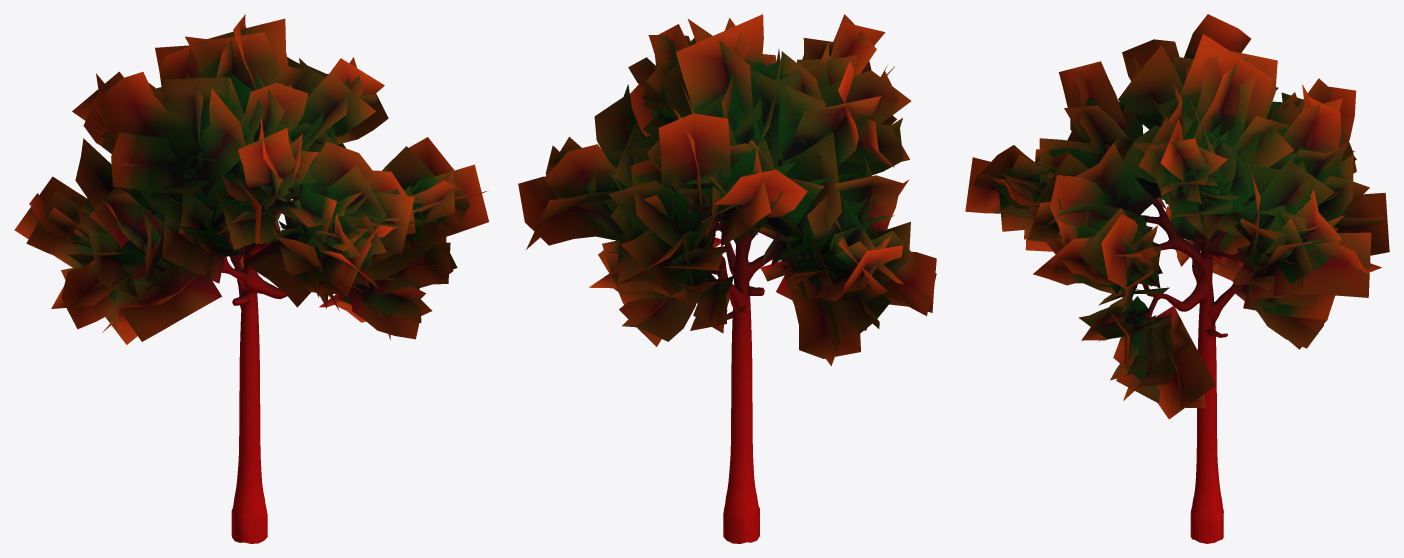
Rendered from BeecthTree02Winter.fbx.
The picture shows the model from 3 angles, left to right: view 1: azimuth 30°, elevation 25°; view 2: azimuth 150°, elevation 25°; view 3: azimuth 270°, elevation 25°; orthographic projection. The views are drawn at different scales.
Visible parts, largest first — view 1: BeecthTree02Winter_Leaves_LOD0, BeecthTree02Winter_Bark_LOD0; view 2: BeecthTree02Winter_Leaves_LOD0, BeecthTree02Winter_Bark_LOD0; view 3: BeecthTree02Winter_Leaves_LOD0, BeecthTree02Winter_Bark_LOD0.
Boxes of the visible parts, left/top/right/bottom form: BeecthTree02Winter_Leaves_LOD0: left=14, top=14, right=488, bottom=344; BeecthTree02Winter_Bark_LOD0: left=140, top=142, right=363, bottom=543; BeecthTree02Winter_Leaves_LOD0: left=518, top=14, right=936, bottom=365; BeecthTree02Winter_Bark_LOD0: left=679, top=159, right=846, bottom=543; BeecthTree02Winter_Leaves_LOD0: left=965, top=14, right=1389, bottom=419; BeecthTree02Winter_Bark_LOD0: left=1127, top=184, right=1278, bottom=543.
Size of what is drawn, in the model's own units: 11.33 by 15.41 by 11.98.
